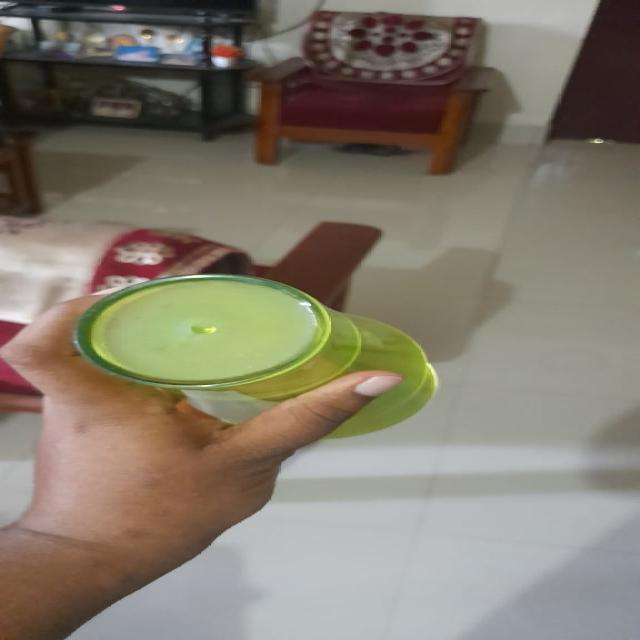Plastic - Recyclable: (70, 272, 440, 440)
